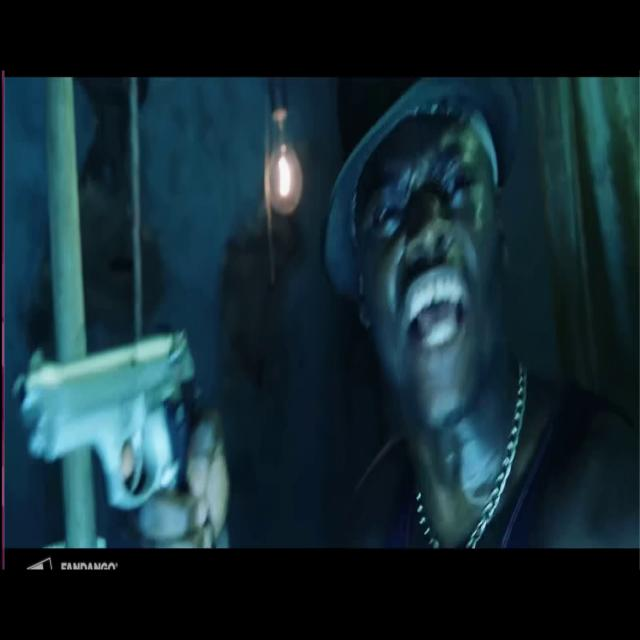weapons: (13, 318, 217, 538)
